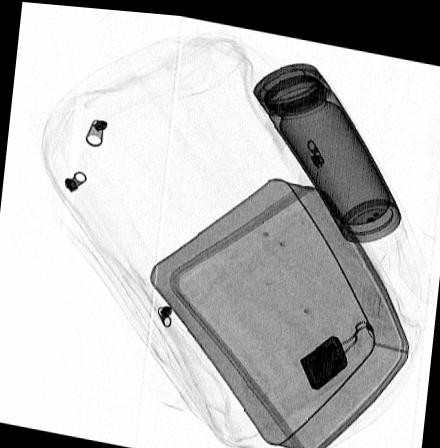Lighter: (297, 327, 348, 383)
